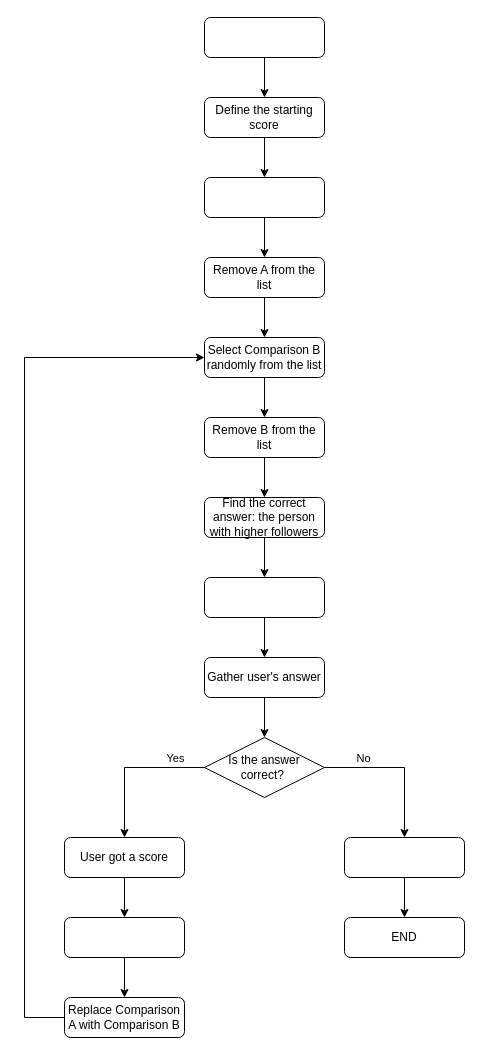
Image size: 482x1055. Some labels were removed from this diagram. The shapes that lost their labels are listed below. From the top down, each one's centre as x and y in pixels, then its label:
the point at 264,37: START
the point at 264,197: Select Comparison A randomly from the list
the point at 264,597: Pose the comparison question to the user
the point at 404,857: Report the final result
the point at 124,937: Report the result and current score
